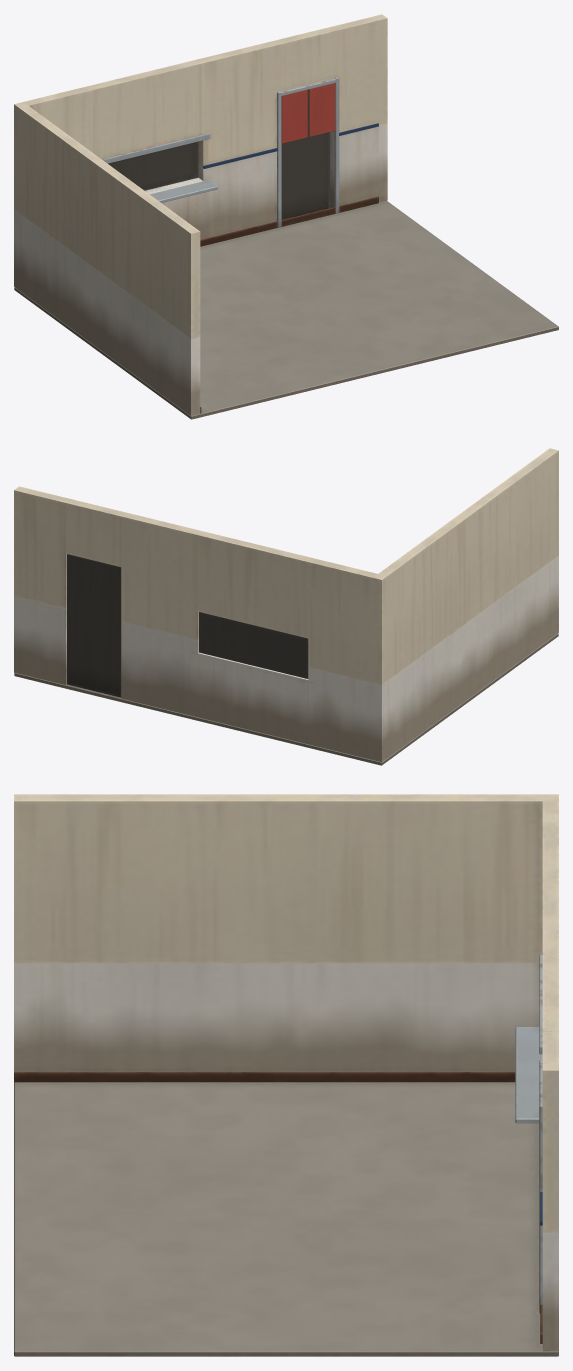
File: noodle_shop_shell.glb
The picture shows the model from 3 angles, top to bottom: view 1: azimuth 30°, elevation 25°; view 2: azimuth 150°, elevation 25°; view 3: azimuth 270°, elevation 25°; orthographic projection. The views are drawn at different scales.
Parts seen in each view (by area): view 1: noodle_shop_shell; view 2: noodle_shop_shell; view 3: noodle_shop_shell.
Part boxes in pixels (x1,y1,x2,y2): noodle_shop_shell: (14,14,558,419); noodle_shop_shell: (14,448,558,765); noodle_shop_shell: (14,794,558,1356).
Bounding box in the file's own units: 6 × 2.9 × 5.
8 materials, 8 textured.
